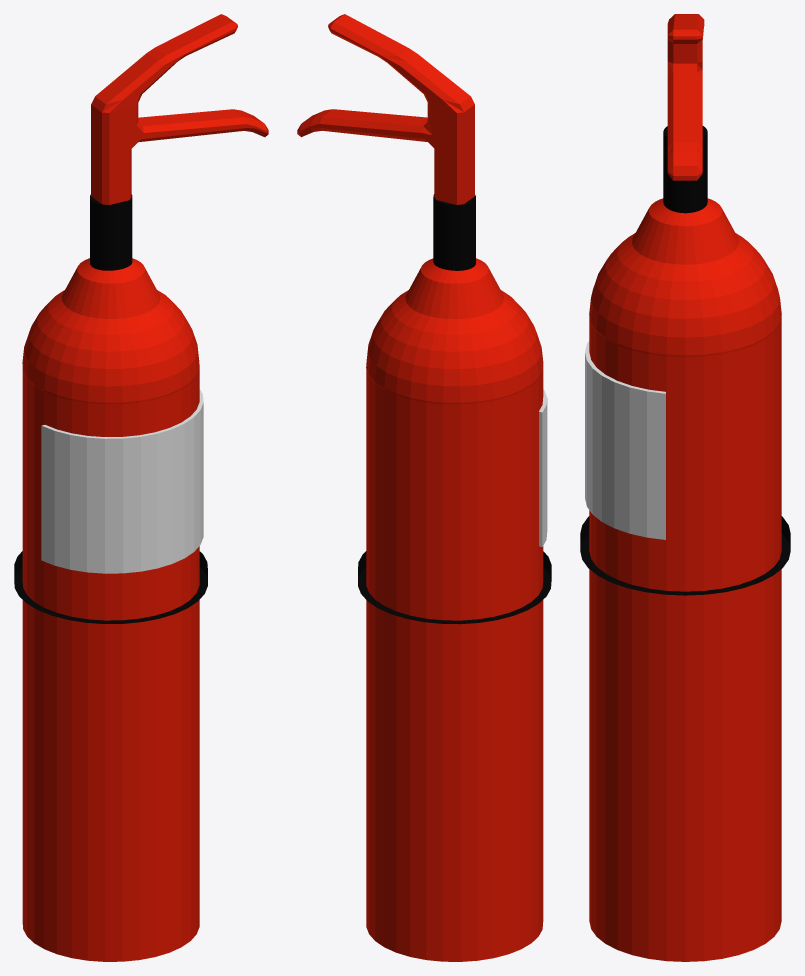
The model's file is 2extintor.gltf.
The picture shows the model from 3 angles, left to right: view 1: azimuth 30°, elevation 25°; view 2: azimuth 150°, elevation 25°; view 3: azimuth 270°, elevation 25°; orthographic projection. The views are drawn at different scales.
Parts seen in each view (by area): view 1: Cube; view 2: Cube; view 3: Cube.
Boxes of the visible parts, x1,y1,x2,y2 form: Cube: (14, 14, 268, 961); Cube: (297, 14, 551, 961); Cube: (580, 14, 790, 961).
Size of the model in its own units: 0.4478 by 1.59 by 0.3189.
